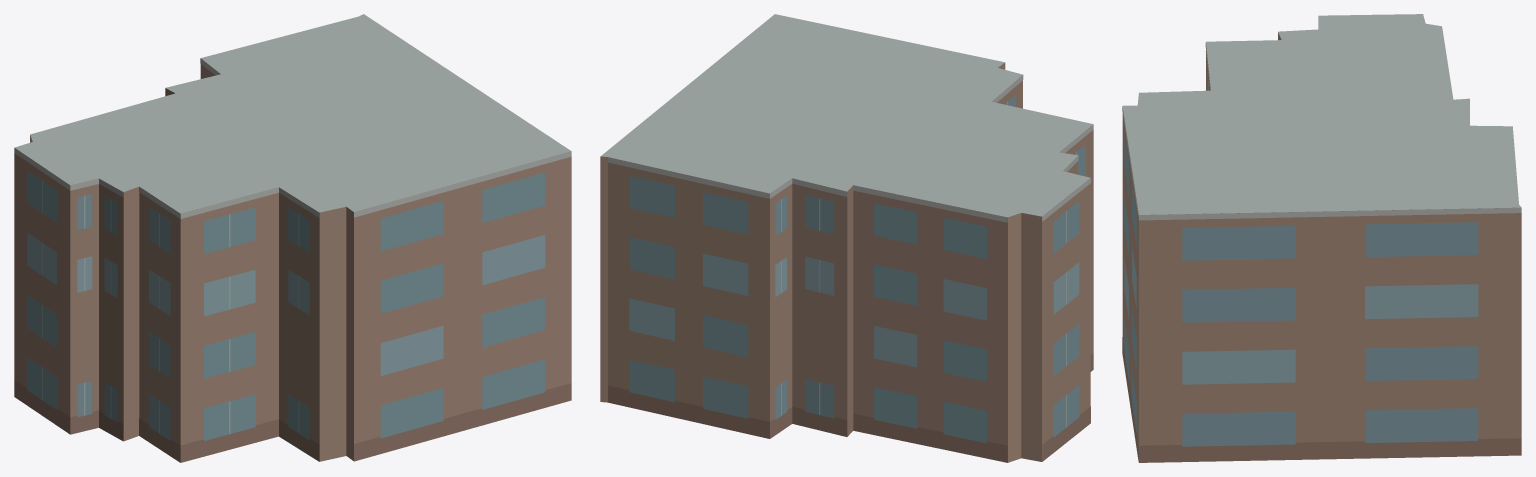
The model's file is survey-upis-32619390.glb.
3 renders of one model, left to right at view 1: azimuth 30°, elevation 25°; view 2: azimuth 150°, elevation 25°; view 3: azimuth 270°, elevation 25°, orthographic.
Visible parts, largest first — view 1: survey-upis-32619390.tmp; view 2: survey-upis-32619390.tmp; view 3: survey-upis-32619390.tmp.
Boxes of the visible parts, x1,y1,x2,y2 form: survey-upis-32619390.tmp: (14,14,571,462); survey-upis-32619390.tmp: (600,14,1093,462); survey-upis-32619390.tmp: (1122,14,1521,462).
Bounding box in the file's own units: 19.4 × 11.15 × 16.28.
